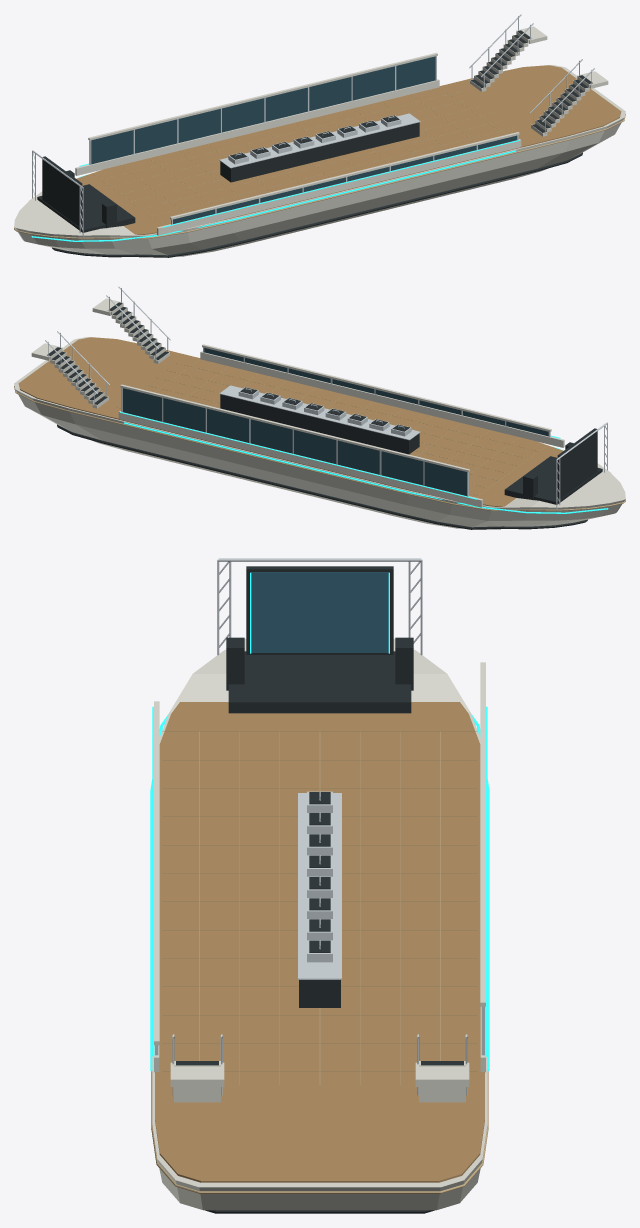
The model's file is unicorn-lower.glb.
The picture shows the model from 3 angles, top to bottom: view 1: azimuth 30°, elevation 25°; view 2: azimuth 150°, elevation 25°; view 3: azimuth 270°, elevation 25°; orthographic projection. The views are drawn at different scales.
Parts seen in each view (by area): view 1: SM_LowerFloor_Wood, SM_Hull_Pearl, SM_LowerCutWindows_Glass, SM_LowerCutWindows_Pearl, SM_LowerFixtures_Dark, SM_LowerFixtures_Silver, SM_Stairs_Pearl, SM_LowerFloor_Champagne, SM_Hull_Dark, SM_Stairs_Dark, SM_Hull_Champagne, SM_Hull_Cyan (+3 smaller); view 2: SM_LowerFloor_Wood, SM_Hull_Pearl, SM_LowerCutWindows_Glass, SM_LowerCutWindows_Pearl, SM_LowerFixtures_Dark, SM_LowerFixtures_Silver, SM_Stairs_Pearl, SM_Hull_Dark, SM_LowerFloor_Champagne, SM_Stairs_Dark, SM_Hull_Champagne, SM_Hull_Cyan (+3 smaller); view 3: SM_LowerFloor_Wood, SM_LowerFixtures_Dark, SM_Hull_Pearl, SM_LowerFixtures_Screen, SM_LowerFixtures_Silver, SM_LowerFloor_Champagne, SM_LowerCutWindows_Pearl, SM_Stairs_Pearl, SM_Hull_Cyan, SM_LowerCutWindows_Cyan, SM_Hull_Champagne, SM_Hull_Dark.
Boxes of the visible parts, <box> form: SM_LowerFloor_Wood: <box>76,65,621,234</box>; SM_Hull_Pearl: <box>14,65,625,256</box>; SM_LowerCutWindows_Glass: <box>91,56,516,223</box>; SM_LowerCutWindows_Pearl: <box>75,52,521,235</box>; SM_LowerFixtures_Dark: <box>37,115,419,232</box>; SM_LowerFixtures_Silver: <box>32,113,420,238</box>; SM_Stairs_Pearl: <box>470,26,608,136</box>; SM_LowerFloor_Champagne: <box>92,88,523,225</box>; SM_Hull_Dark: <box>52,152,582,257</box>; SM_Stairs_Dark: <box>471,30,592,132</box>; SM_Hull_Champagne: <box>14,114,625,238</box>; SM_Hull_Cyan: <box>31,150,516,241</box>; SM_LowerFloor_Wood: <box>18,337,563,506</box>; SM_Hull_Pearl: <box>14,337,625,528</box>; SM_LowerCutWindows_Glass: <box>123,348,548,495</box>; SM_LowerCutWindows_Pearl: <box>118,344,564,507</box>; SM_LowerFixtures_Dark: <box>220,387,602,504</box>; SM_LowerFixtures_Silver: <box>219,385,607,510</box>; SM_Stairs_Pearl: <box>31,298,169,408</box>; SM_Hull_Dark: <box>57,424,587,529</box>; SM_LowerFloor_Champagne: <box>116,360,547,497</box>; SM_Stairs_Dark: <box>47,302,168,404</box>; SM_Hull_Champagne: <box>14,386,625,510</box>; SM_Hull_Cyan: <box>123,422,608,513</box>; SM_LowerFloor_Wood: <box>155,702,484,1182</box>; SM_LowerFixtures_Dark: <box>226,566,413,1007</box>; SM_Hull_Pearl: <box>152,638,487,1210</box>; SM_LowerFixtures_Screen: <box>251,572,388,652</box>; SM_LowerFixtures_Silver: <box>217,558,422,979</box>; SM_LowerFloor_Champagne: <box>162,731,477,1085</box>; SM_LowerCutWindows_Pearl: <box>154,662,485,1072</box>; SM_Stairs_Pearl: <box>170,1061,469,1102</box>; SM_Hull_Cyan: <box>150,714,489,1071</box>; SM_LowerCutWindows_Cyan: <box>152,706,487,1056</box>; SM_Hull_Champagne: <box>151,1071,488,1193</box>; SM_Hull_Dark: <box>205,1210,434,1213</box>.
Size of the model in its own units: 40 by 6.27 by 10.13.
